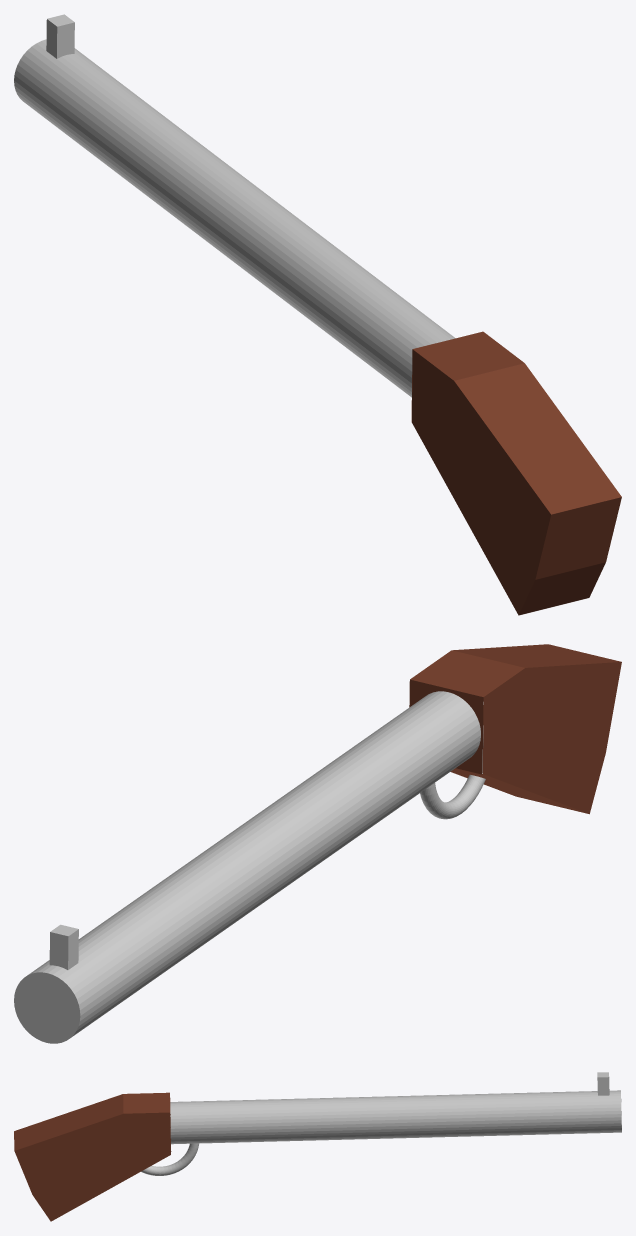
The model's file is Rifle.fbx.
The picture shows the model from 3 angles, top to bottom: view 1: azimuth 30°, elevation 25°; view 2: azimuth 150°, elevation 25°; view 3: azimuth 270°, elevation 25°; orthographic projection. The views are drawn at different scales.
Parts seen in each view (by area): view 1: Cube.001; view 2: Cube.001; view 3: Cube.001.
Part boxes in pixels (box(x1,y1,x2,y2)): Cube.001: box(14, 14, 621, 615); Cube.001: box(14, 644, 621, 1043); Cube.001: box(14, 1072, 621, 1221).
Size of the model in its own units: 21.74 by 63.23 by 259.
